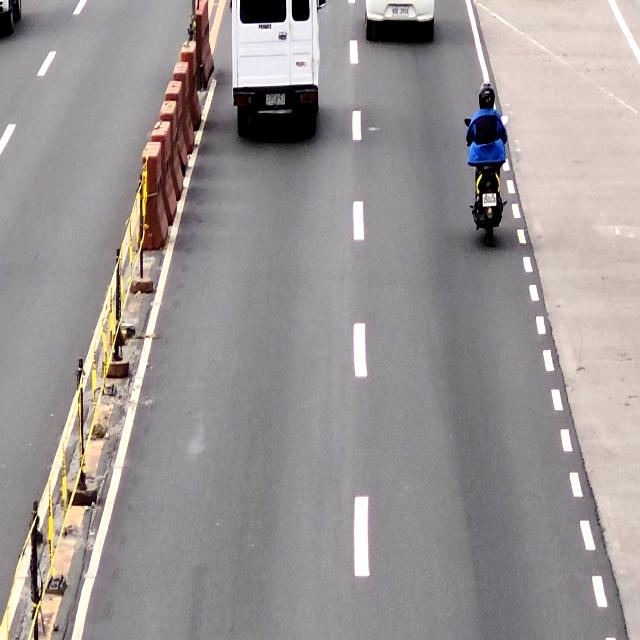Car: (228, 0, 327, 136), (363, 0, 435, 43)
License-Plate: (266, 93, 286, 105), (482, 192, 497, 206)
Motorcycle: (464, 110, 508, 247)
